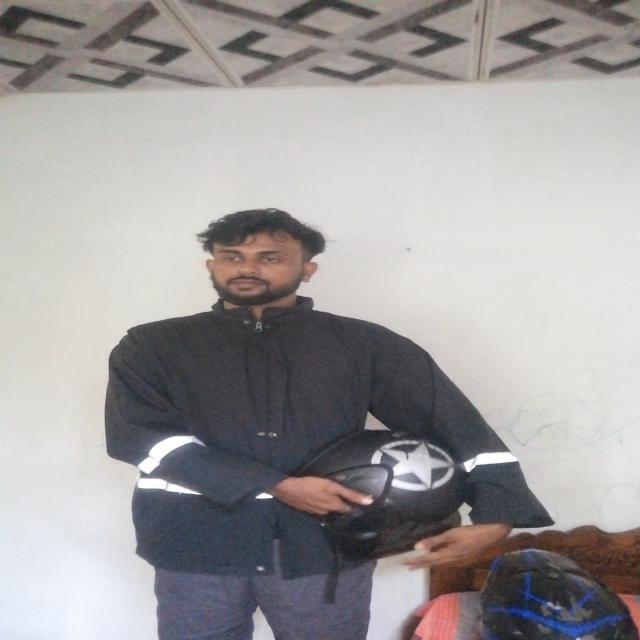Jacket_Wearer: (95, 292, 526, 604)
Person: (83, 197, 504, 624)
